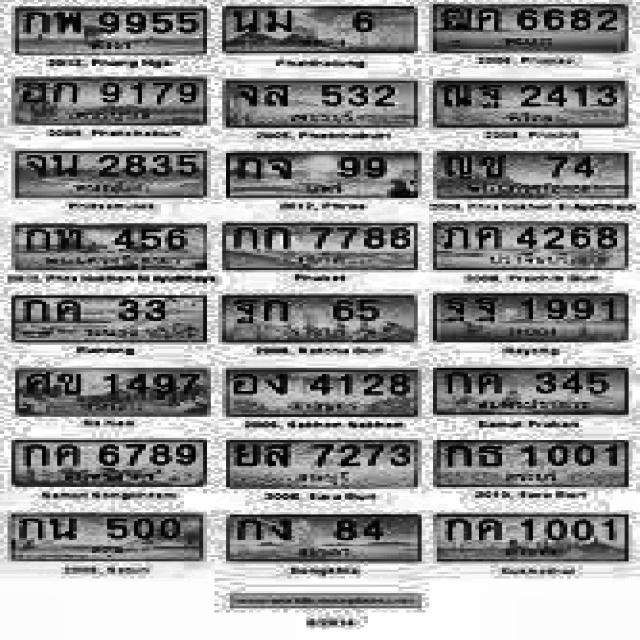license-plate: (9, 362, 219, 422), (14, 72, 214, 133), (429, 507, 637, 565), (221, 510, 428, 566), (2, 507, 204, 564), (430, 0, 630, 57), (429, 289, 632, 345), (426, 364, 634, 418), (215, 291, 422, 345), (9, 434, 207, 490), (222, 365, 427, 419), (431, 217, 628, 273), (4, 3, 212, 56), (12, 147, 216, 201), (221, 218, 424, 271), (432, 436, 627, 491), (220, 78, 418, 132), (221, 3, 420, 56), (429, 148, 628, 201), (6, 222, 212, 273), (431, 78, 630, 130), (226, 149, 424, 201), (8, 293, 210, 343), (221, 441, 424, 489)
